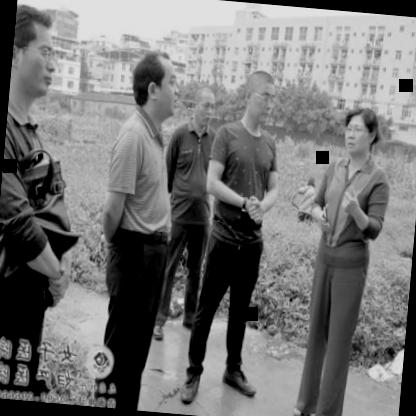head: (9, 0, 65, 102), (127, 49, 182, 122), (238, 66, 280, 128), (338, 102, 380, 162), (188, 84, 221, 134)
